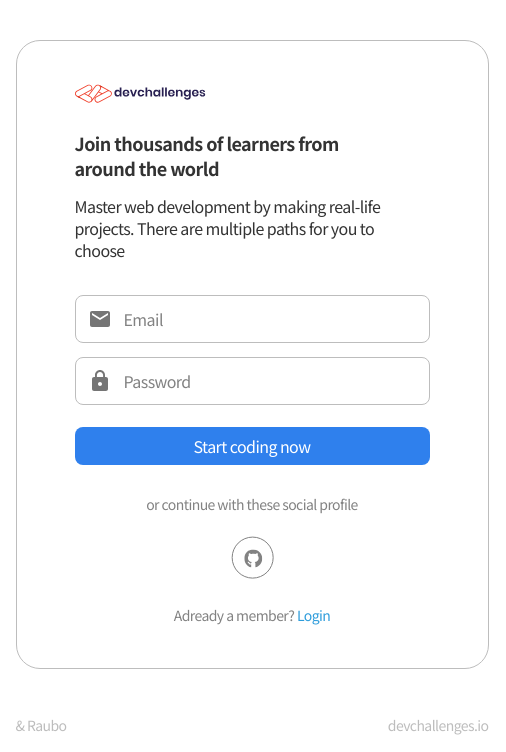
Test case: Auth app › Signup › email, password is required message
Step 1. Click the button with test id "submit" → (253, 447), box [75,428,430,466]
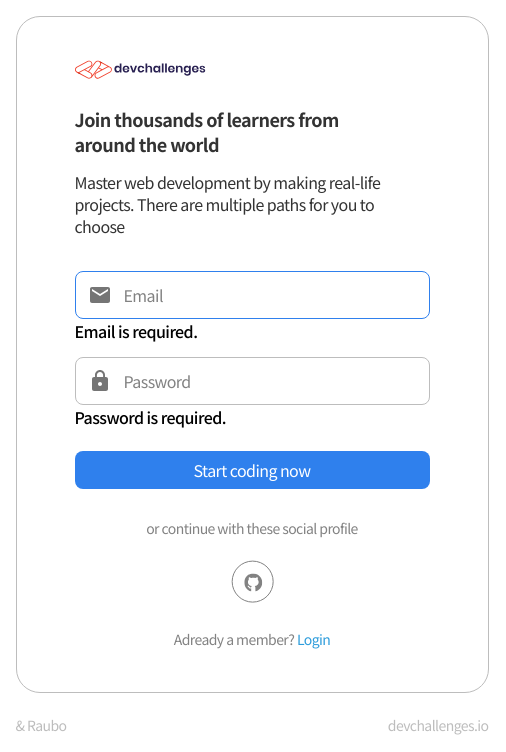
Now the text "Email is required." is shown, box [74,320,197,344]
Now the text "Password is required." is shown, box [74,406,226,430]
